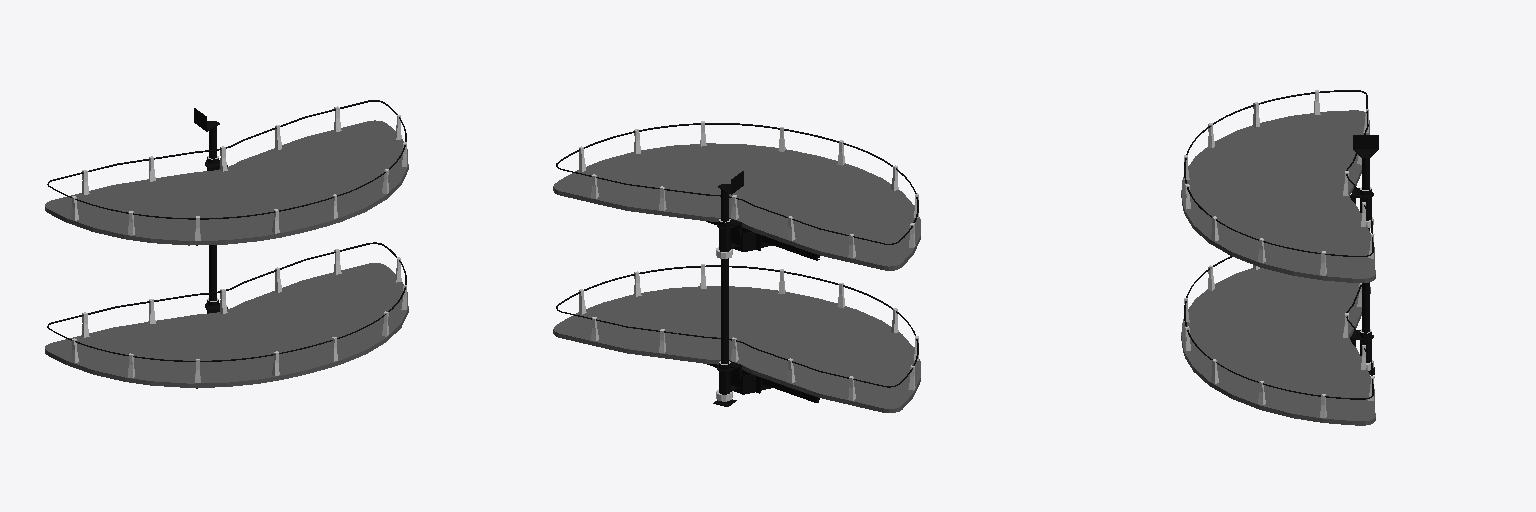
The model's file is IKEA.ART.40215292.obj.
The picture shows the model from 3 angles: view 1: azimuth 30°, elevation 25°; view 2: azimuth 150°, elevation 25°; view 3: azimuth 270°, elevation 25°; orthographic projection.
Visible parts, largest first — view 1: model_model.082; view 2: model_model.082; view 3: model_model.082.
Boxes of the visible parts, x1,y1,x2,y2 form: model_model.082: [45, 100, 408, 388]; model_model.082: [553, 121, 920, 412]; model_model.082: [1181, 90, 1378, 425].
Size of the model in its own units: 1.02 by 0.6557 by 0.5101.